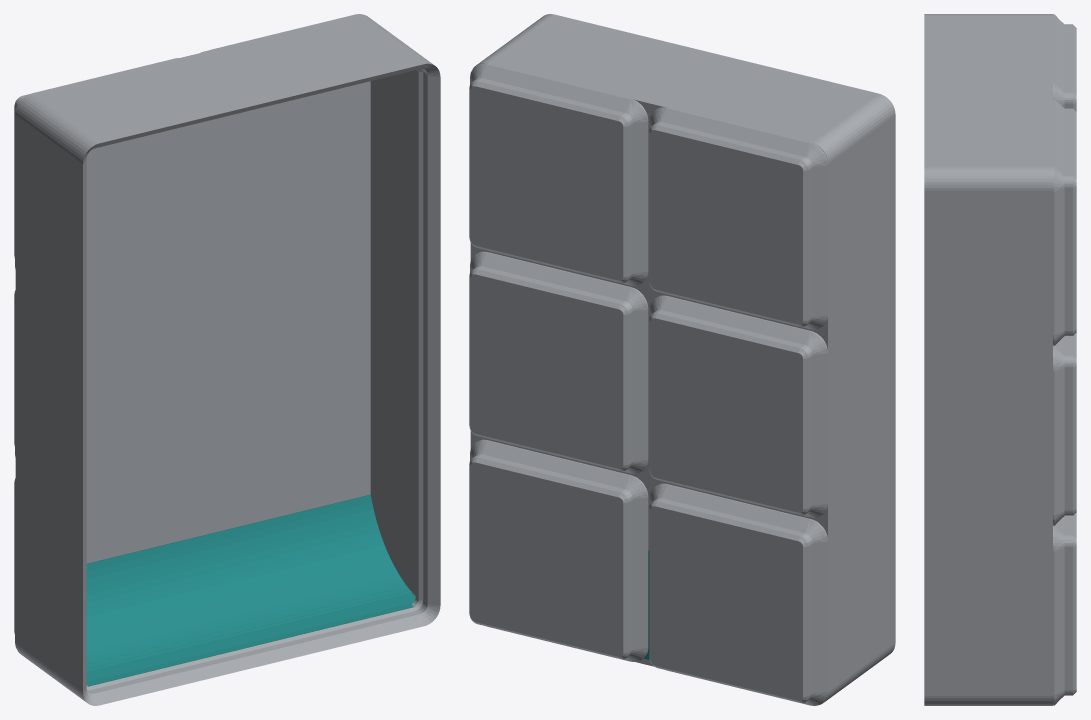
The model's file is scoop-2x3-ramp.glb.
3 views of the same model, side by side, from view 1: azimuth 30°, elevation 25°; view 2: azimuth 150°, elevation 25°; view 3: azimuth 270°, elevation 25° (orthographic). The views are drawn at different scales.
Size of the model in its own units: 83.5 by 126 by 32.31.
